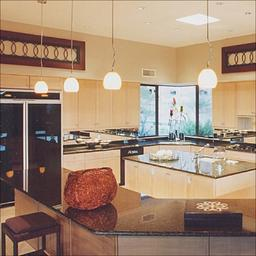Electrodomestico: (2, 90, 60, 163)
